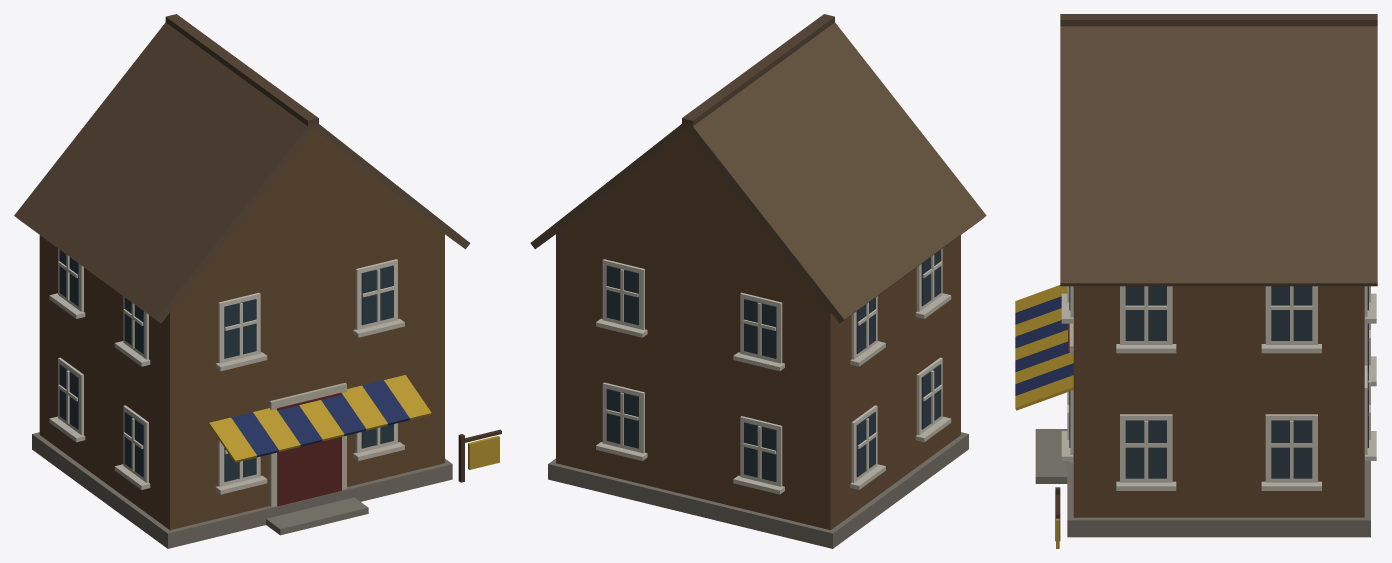
Rendered from procedural_jeweler@3.glb.
3 renders of one model, left to right at view 1: azimuth 30°, elevation 25°; view 2: azimuth 150°, elevation 25°; view 3: azimuth 270°, elevation 25°, orthographic. The views are drawn at different scales.
Visible parts, largest first — view 1: part_0; view 2: part_0; view 3: part_0.
Part boxes in pixels (x1,y1,x2,y2): part_0: [14, 14, 501, 548]; part_0: [530, 14, 986, 548]; part_0: [1015, 14, 1377, 548].
Size of the model in its own units: 7 by 7.73 by 5.73.
